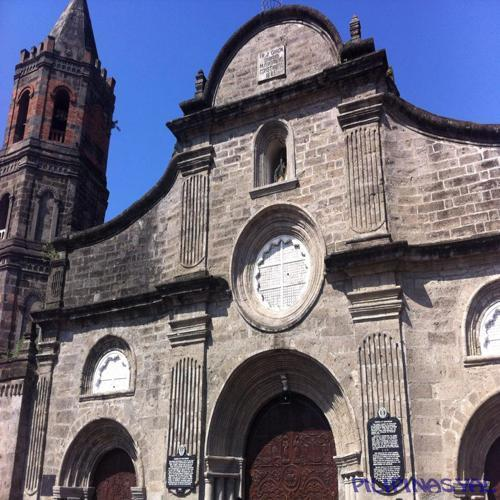Barasoain Church: (2, 1, 500, 500)
